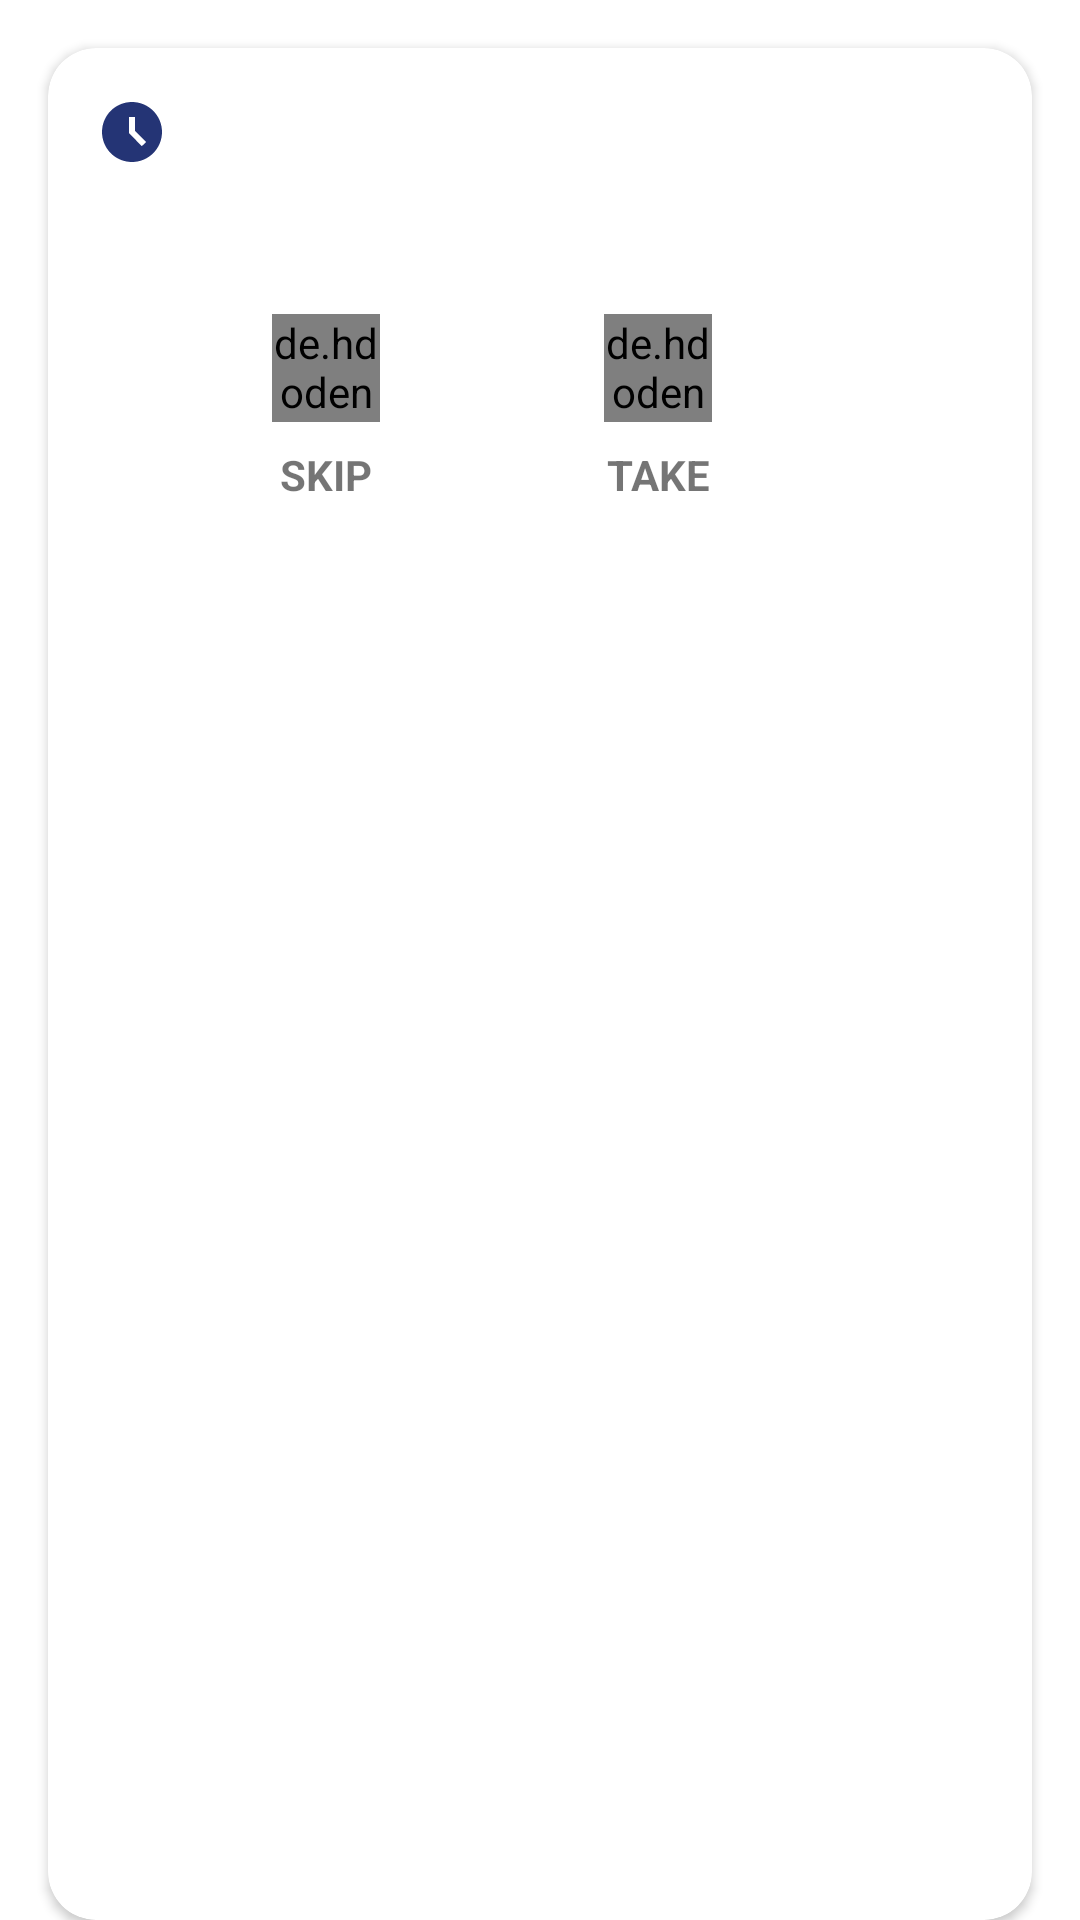

Where icons sit on this 1080 x 1920 app screen, as (x1, y1, x2, y2):
access time: (102, 102, 162, 162)
